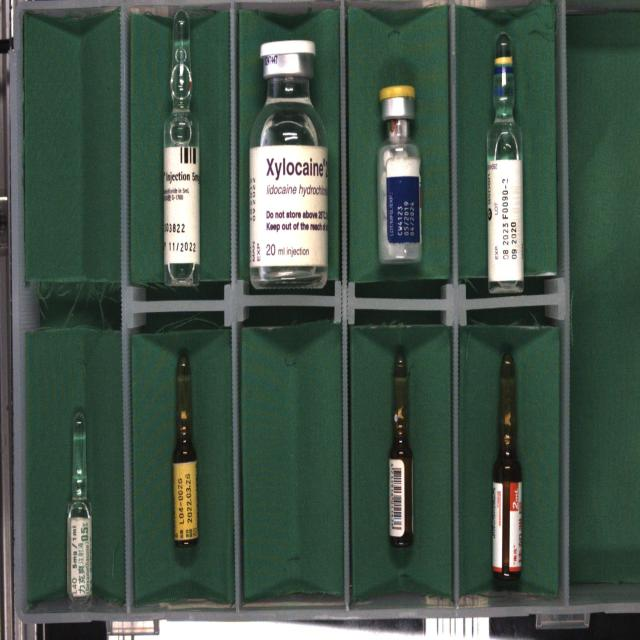Vials: (249, 40, 328, 289), (377, 85, 422, 263)
